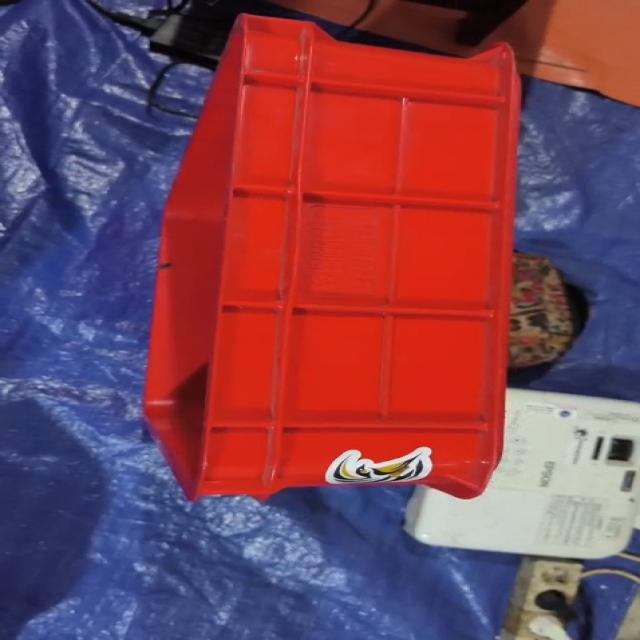red plastic box: (143, 14, 524, 504)
